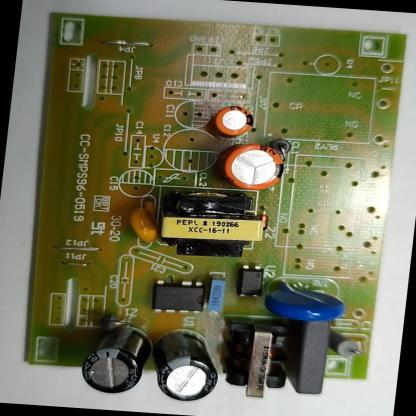Cap1: (220, 141, 288, 194)
Cap2: (212, 103, 258, 140)
Cap3: (146, 326, 226, 405)
Cap4: (77, 320, 156, 397)
MOSFET: (150, 277, 210, 318)
Mov: (262, 277, 348, 326)
Resistor: (324, 328, 362, 362)
Transformer: (155, 183, 271, 262), (216, 315, 301, 402)
